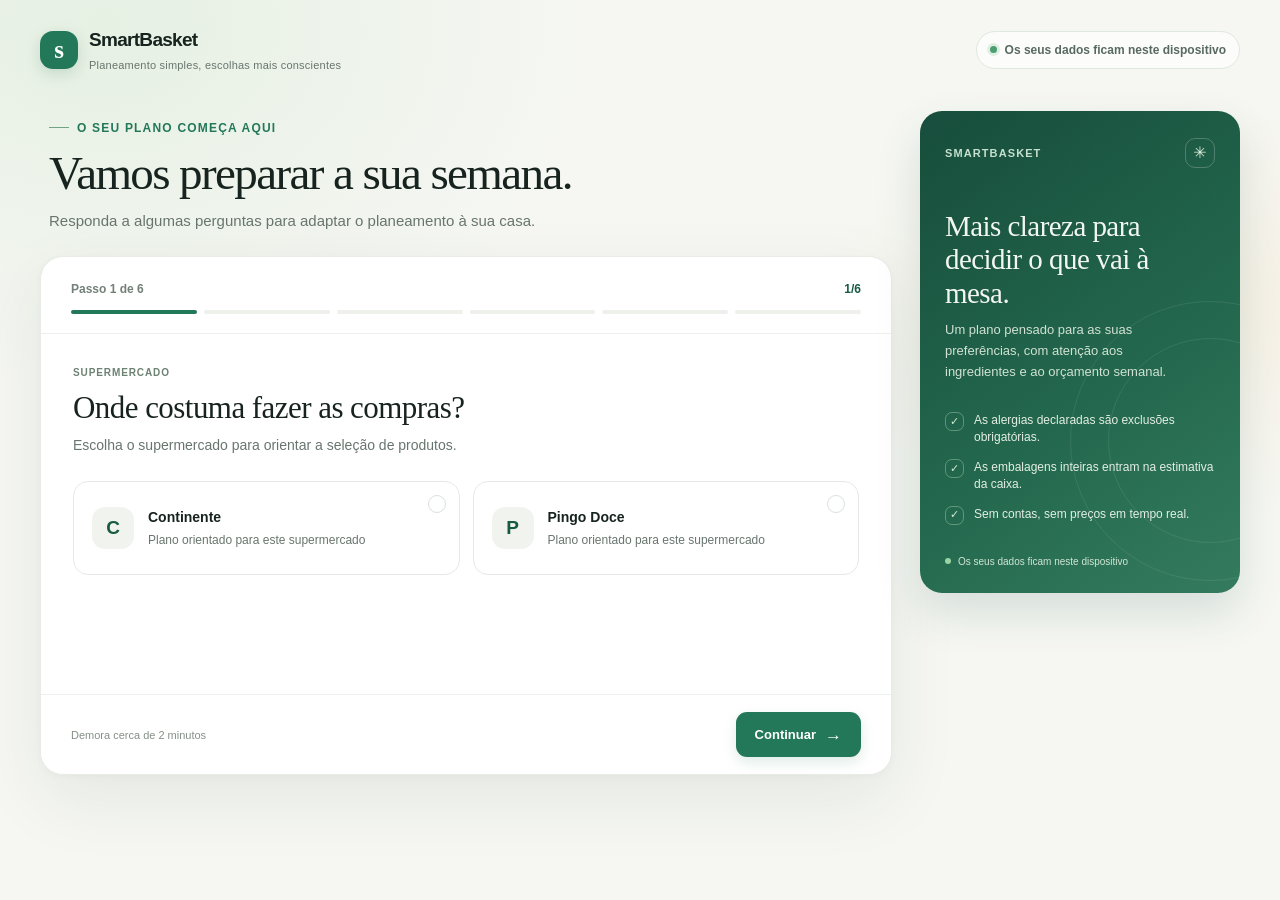
Test: setup wizard interface › completes the six steps, validates answers, and saves the profile locally
The width and height of the screenshot is (1280, 900).
Later steps or results of the test are not shown.
Step 1. Click the button "Continuar" → (798,735), box 736,712 -> 861,757
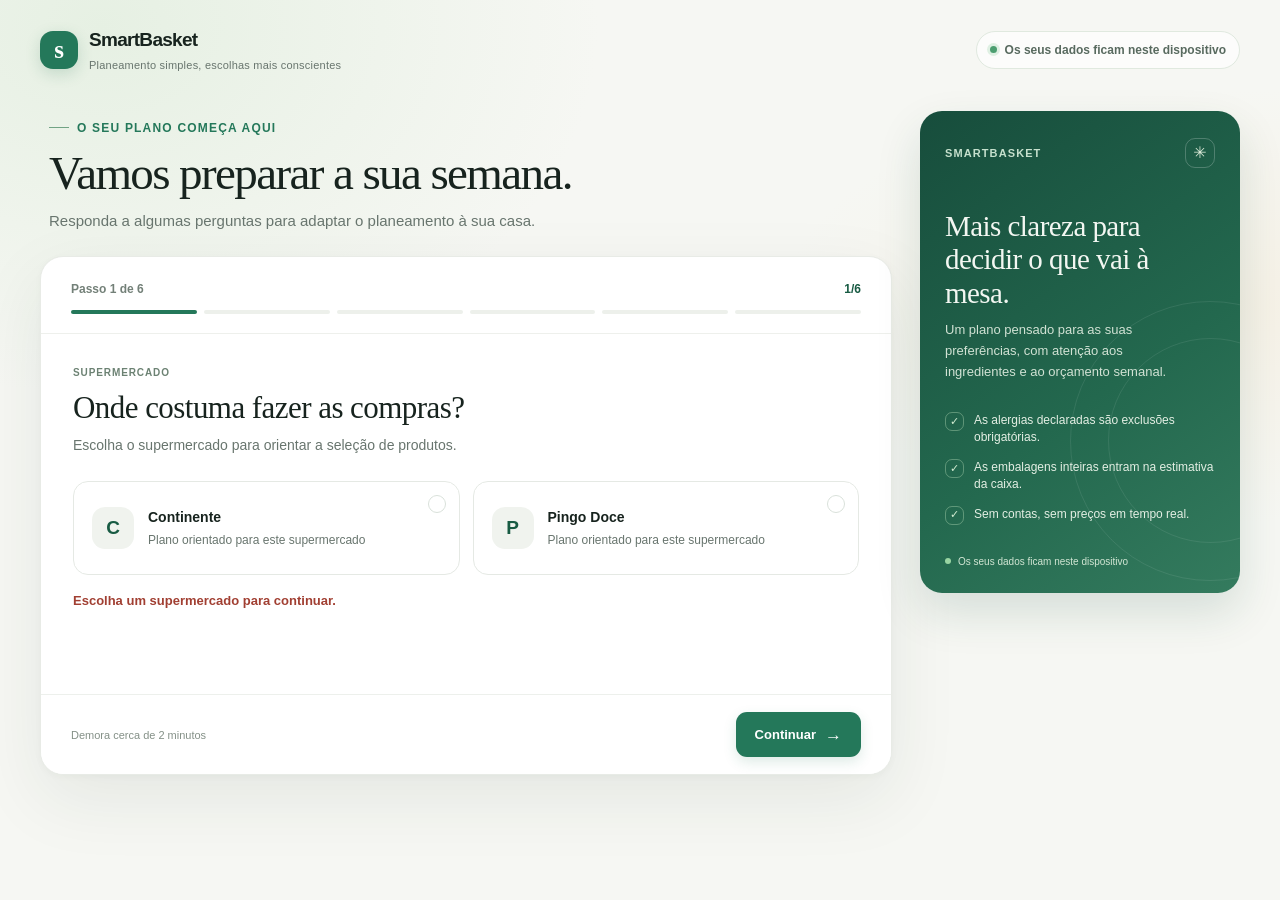
expect the text "Escolha um supermercado para continuar." is shown: met, box 73,593 -> 336,608
